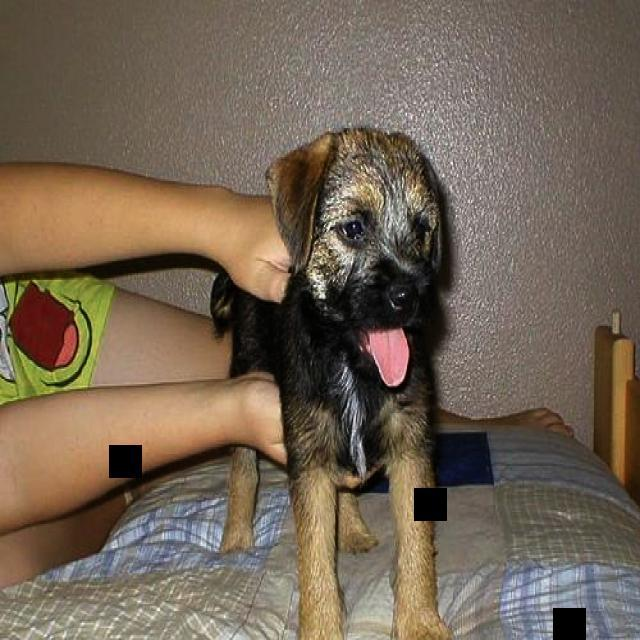puppy-dog: (213, 129, 452, 640)
